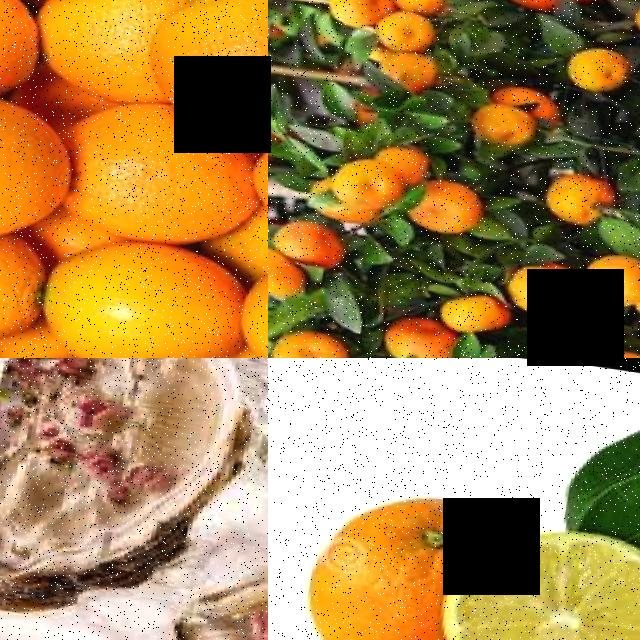orange: (60, 102, 268, 247), (297, 477, 481, 640), (48, 226, 263, 358), (144, 0, 268, 135), (30, 0, 169, 99), (0, 78, 80, 241), (0, 212, 65, 354), (332, 147, 421, 210), (418, 170, 494, 232), (515, 250, 593, 310), (278, 210, 357, 266), (546, 158, 616, 214), (392, 309, 466, 358), (563, 34, 634, 84), (468, 93, 544, 139), (0, 342, 195, 358), (279, 322, 365, 358), (590, 238, 640, 297), (268, 242, 319, 297), (375, 3, 439, 46), (380, 42, 445, 82), (325, 0, 397, 27)
oysters: (0, 358, 257, 635)
